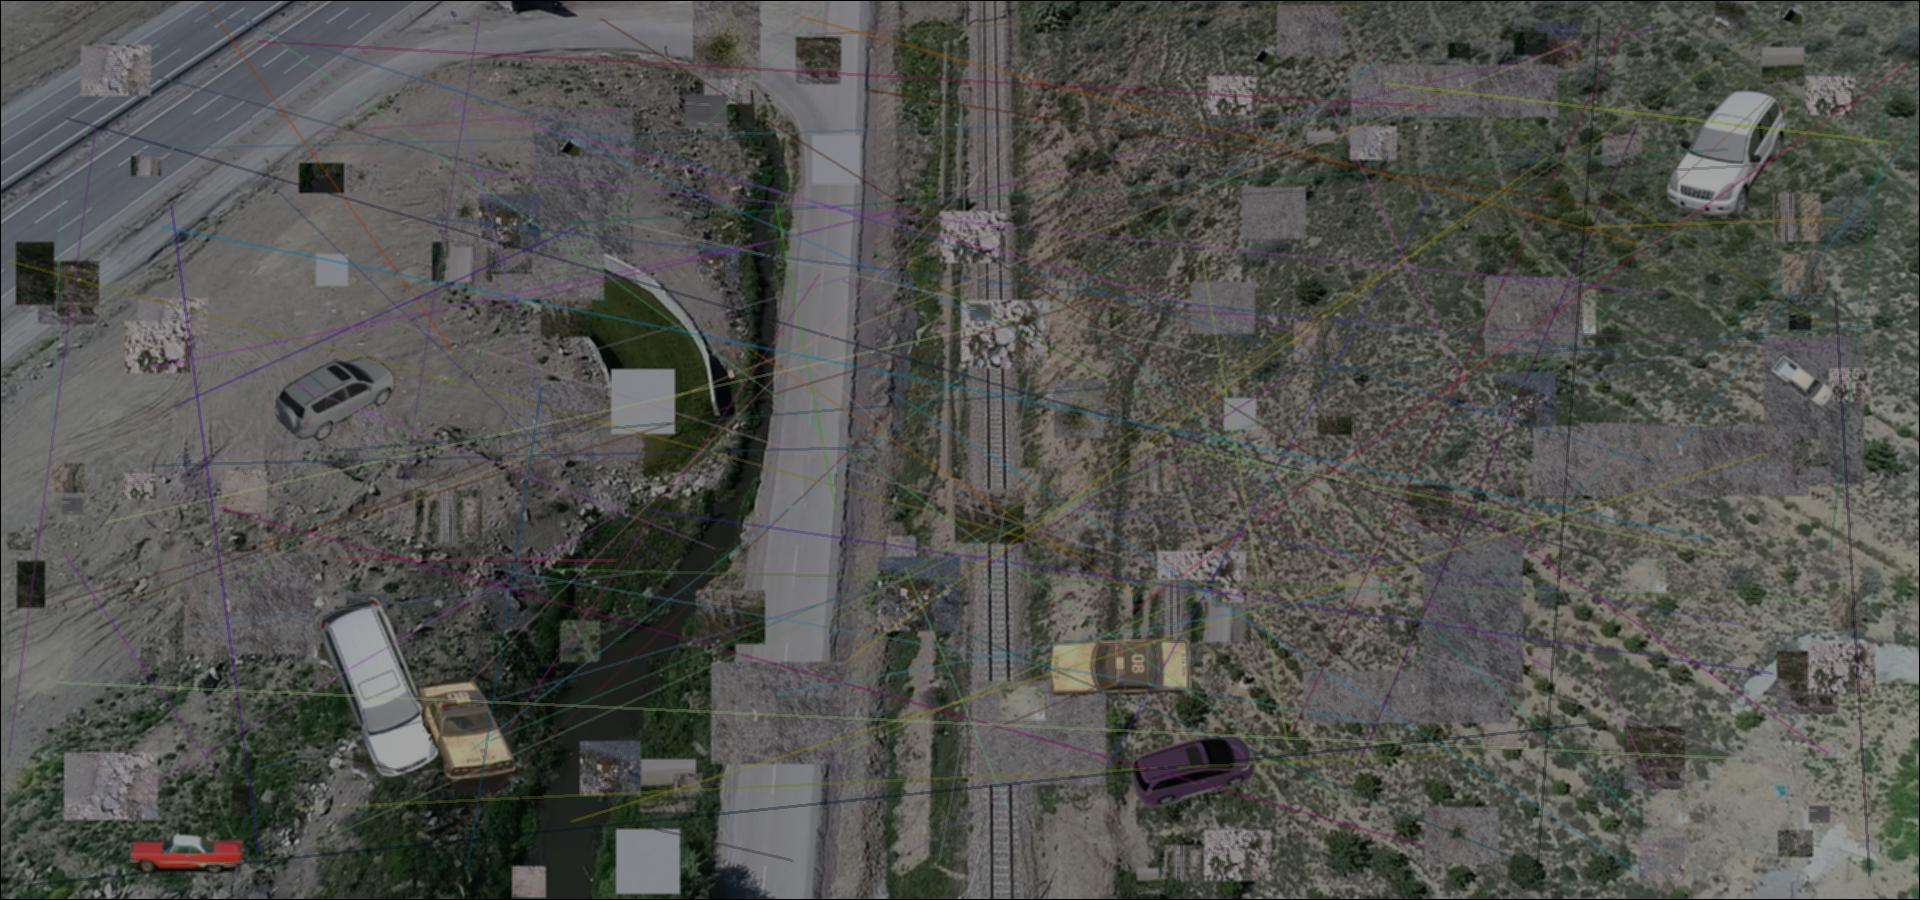arac: (315, 594, 443, 778), (1658, 86, 1795, 230), (409, 675, 520, 792), (276, 351, 396, 443), (1127, 736, 1259, 807), (1046, 637, 1193, 698), (129, 835, 247, 876), (1767, 354, 1836, 408)
